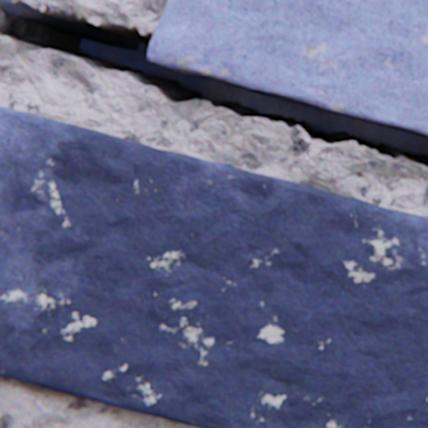brick: (0, 105, 427, 427), (148, 0, 427, 134)
crack: (0, 0, 427, 168)
